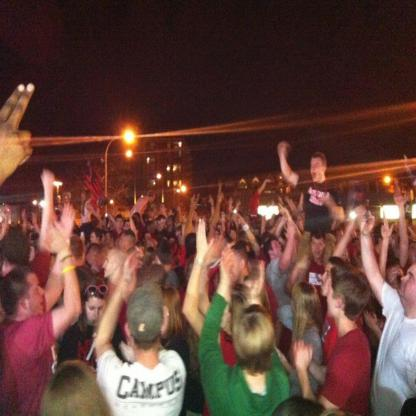face: (24, 277, 45, 317), (398, 264, 416, 301), (87, 297, 106, 327), (327, 284, 343, 316), (322, 267, 336, 298), (228, 254, 241, 281), (311, 159, 323, 182), (312, 238, 324, 258), (272, 241, 284, 259), (120, 237, 128, 252), (91, 234, 98, 247), (126, 222, 132, 233), (117, 218, 123, 228), (135, 216, 140, 226), (146, 234, 151, 243), (231, 231, 236, 239), (106, 234, 110, 244), (168, 218, 172, 226), (161, 219, 165, 227), (161, 205, 165, 212)
